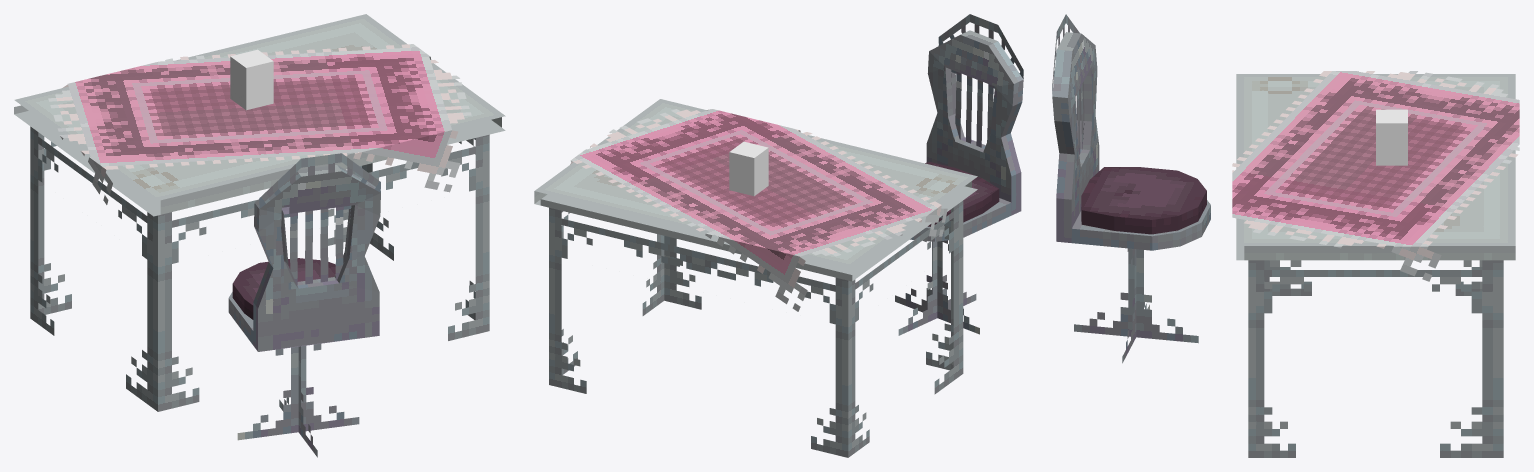
File: teatime.glb
3 renders of one model, left to right at view 1: azimuth 30°, elevation 25°; view 2: azimuth 150°, elevation 25°; view 3: azimuth 270°, elevation 25°, orthographic. The views are drawn at different scales.
Parts seen in each view (by area): view 1: TABLECLOTH, difchair, cube.005, cube.016, cube.006, cube.007, cube.001, cube.008, cube, cube.017, cube.004, cube.014 (+3 smaller); view 2: TABLECLOTH, cube.005, difchair, cube.017, cube.010, cube.015, cube.007, cube.008, cube, cube.001, cube.004, cube.016 (+5 smaller); view 3: TABLECLOTH, cube.005, difchair, cube.004, cube.009, cube.011, cube.002, cube.003, cube, cube.012, cube.007, cube.001.
Part boxes in pixels (x1,y1,x2,y2): TABLECLOTH: (48, 44, 471, 204); difchair: (253, 153, 380, 351); cube.005: (14, 14, 505, 216); cube.016: (448, 134, 489, 340); cube.006: (158, 212, 199, 411); cube.007: (126, 201, 157, 411); cube.001: (237, 343, 359, 440); cube.008: (30, 126, 54, 335); cube: (230, 49, 273, 110); cube.017: (38, 132, 71, 314); cube.004: (232, 258, 335, 319); cube.014: (199, 162, 447, 235); TABLECLOTH: (570, 109, 947, 311); cube.005: (534, 99, 977, 281); difchair: (926, 14, 1023, 215); cube.017: (811, 277, 848, 457); cube.010: (549, 207, 586, 393); cube.015: (586, 224, 810, 298); cube.007: (934, 200, 963, 394); cube.008: (848, 273, 869, 457); cube: (729, 141, 768, 196); cube.001: (895, 240, 979, 334); cube.004: (925, 161, 999, 226); cube.016: (664, 236, 701, 309); TABLECLOTH: (1232, 71, 1519, 281); cube.005: (1236, 74, 1515, 260); difchair: (1052, 14, 1099, 242); cube.004: (1081, 167, 1206, 234); cube.009: (1440, 260, 1503, 457); cube.011: (1248, 260, 1295, 457); cube.002: (1074, 248, 1198, 343); cube.003: (1071, 200, 1210, 250); cube: (1376, 109, 1407, 165); cube.012: (1296, 270, 1439, 291); cube.007: (1264, 260, 1311, 295); cube.001: (1122, 248, 1149, 363).
Bounding box in the file's own units: 26.01 × 21.25 × 29.27.
3 materials, 2 textured.
